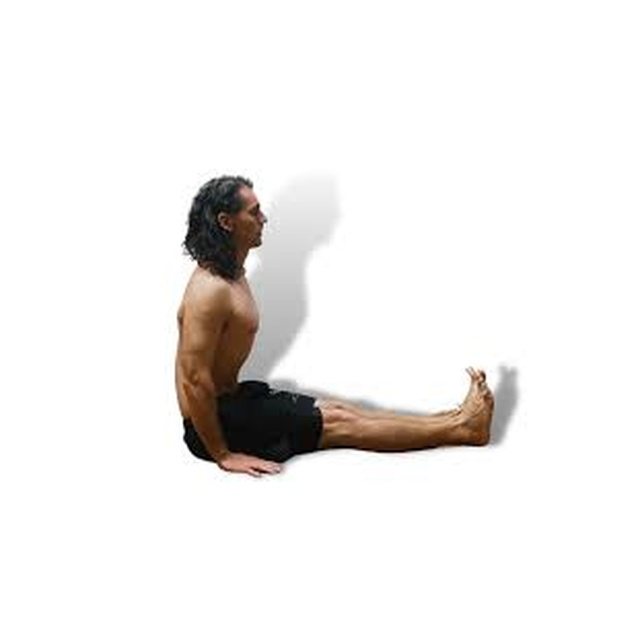Staff_Pose: (173, 174, 495, 478)
